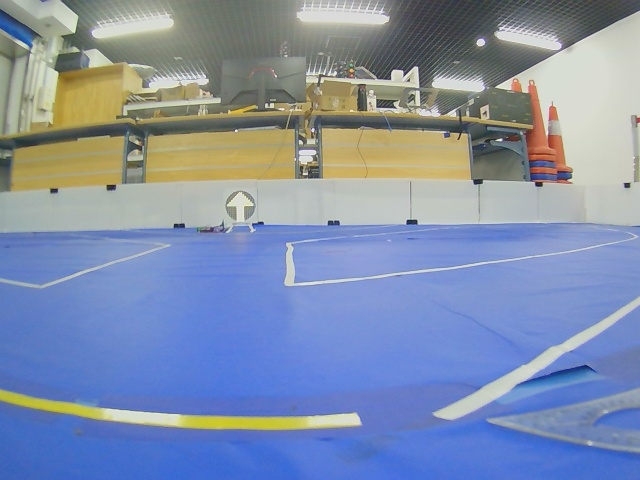straight_yellow: (226, 191, 255, 223)
